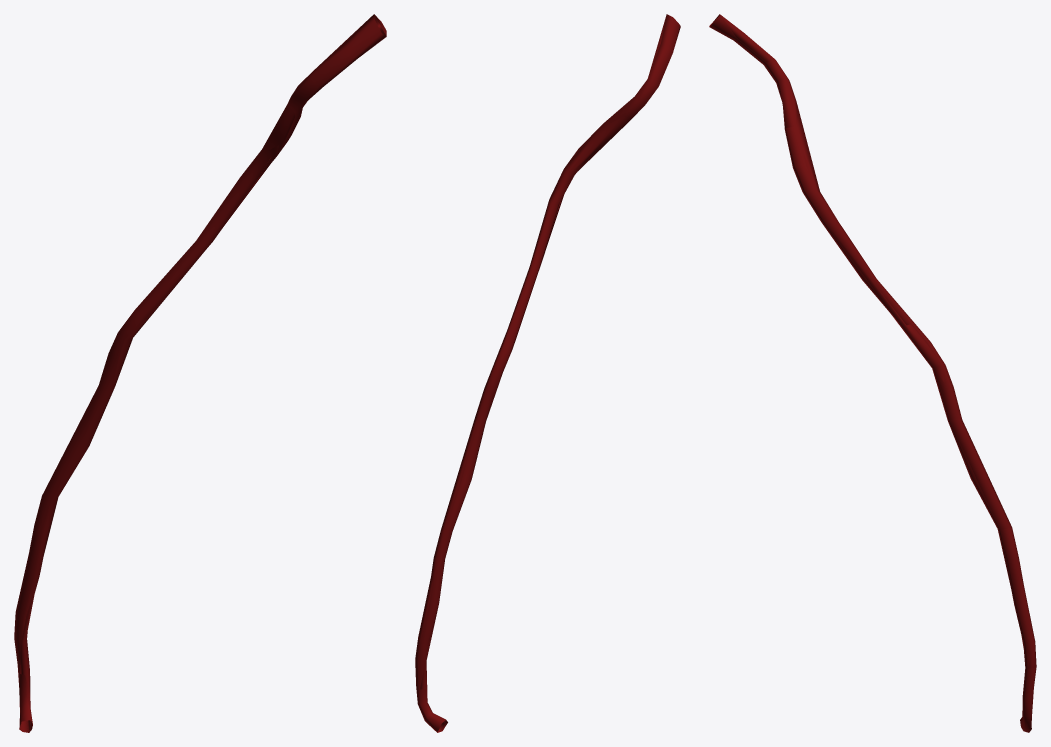
Rendered from L radialis.fbx.
The picture shows the model from 3 angles, left to right: view 1: azimuth 90°, elevation 25°; view 2: azimuth 150°, elevation 25°; view 3: azimuth 270°, elevation 25°; orthographic projection. The views are drawn at different scales.
Visible parts, largest first — view 1: L radialis, L radialis low; view 2: L radialis, L radialis low; view 3: L radialis, L radialis low.
Boxes of the visible parts, bbox=[...] form: L radialis: bbox=[14, 14, 386, 732]; L radialis low: bbox=[17, 14, 386, 732]; L radialis: bbox=[415, 14, 680, 732]; L radialis low: bbox=[415, 16, 666, 731]; L radialis: bbox=[709, 14, 1036, 732]; L radialis low: bbox=[709, 15, 1035, 731].
Size of the model in its own units: 3.7 by 18.69 by 8.22.
